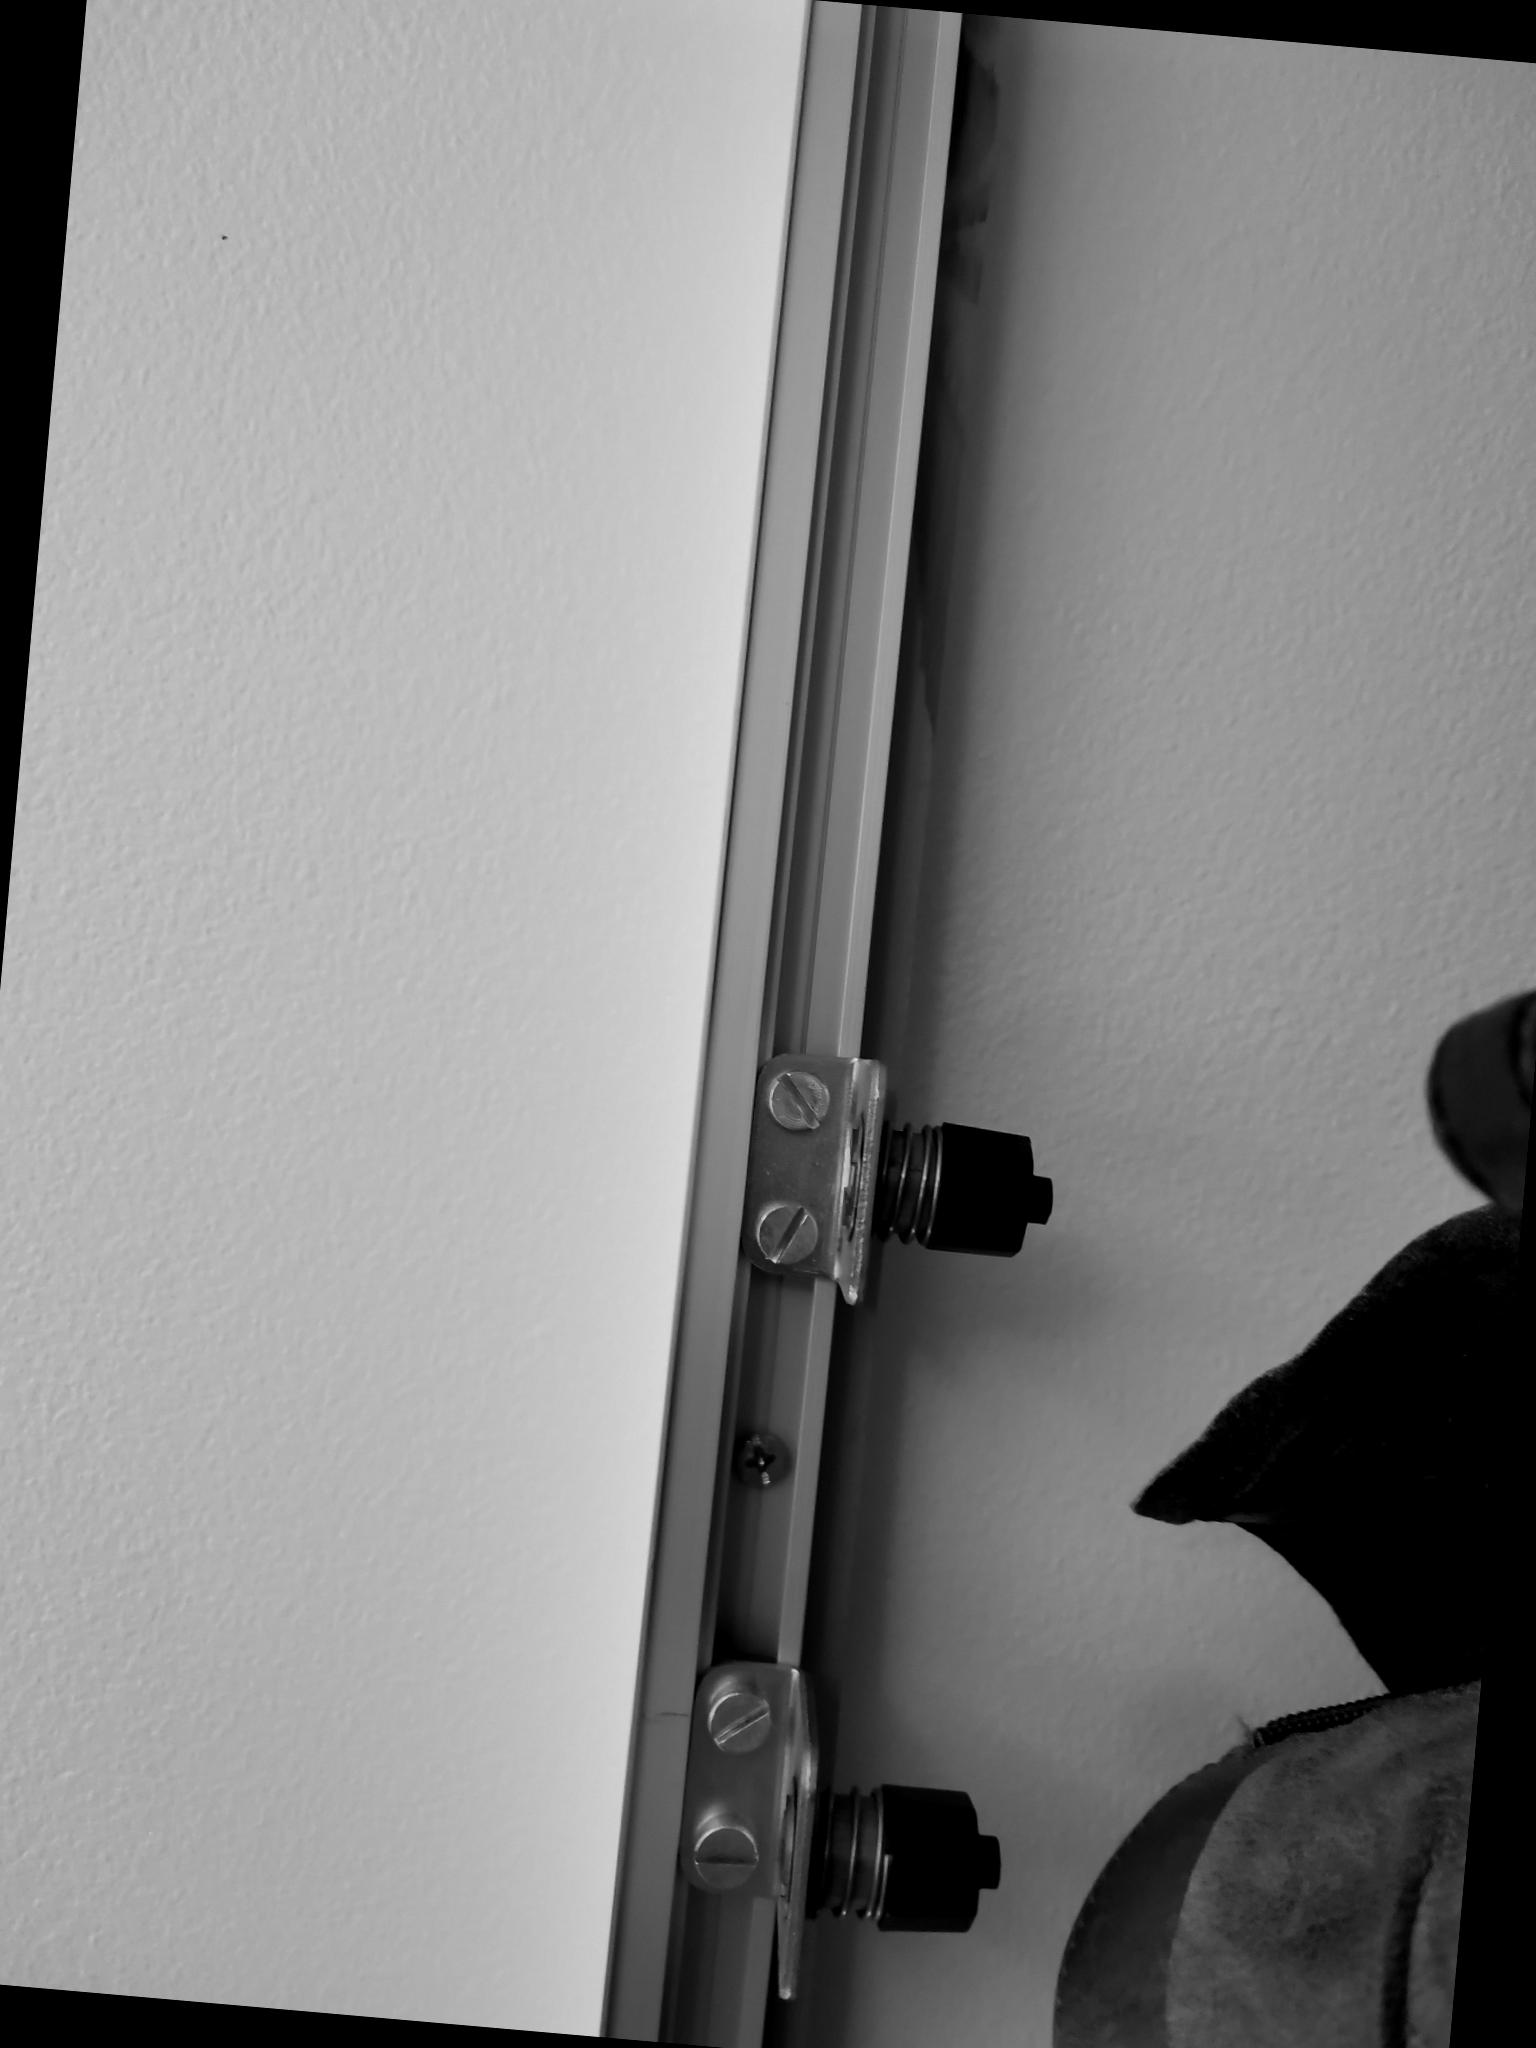screw: (758, 1061, 841, 1143), (686, 1816, 768, 1895), (697, 1682, 779, 1759), (747, 1193, 824, 1271), (726, 1427, 795, 1495)
